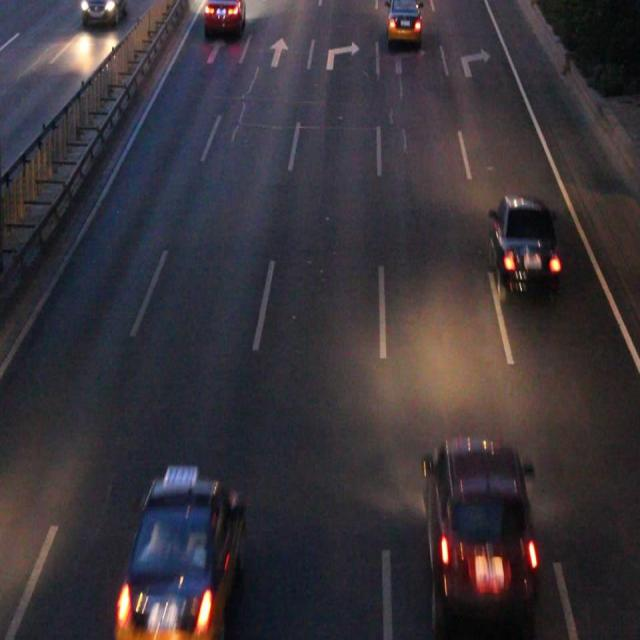car: (119, 477, 241, 640), (427, 440, 533, 615), (487, 198, 556, 294), (203, 1, 244, 37), (386, 1, 419, 43)
